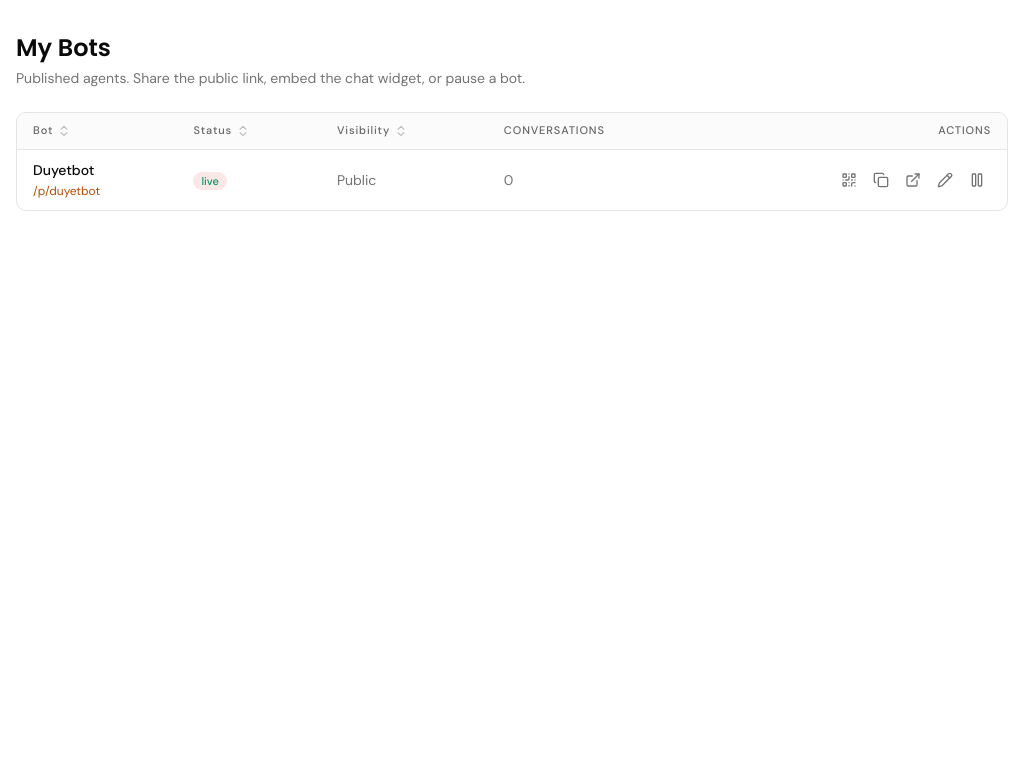
<MyBots /> › opens the edit-publication dialog from the pencil icon, prefilled from the row (issue #237)
Expected: the text "Duyetbot" is shown, [33,161,94,179]
Click the button named "Edit publication".
click(945, 180)  # box [931,166,959,194]
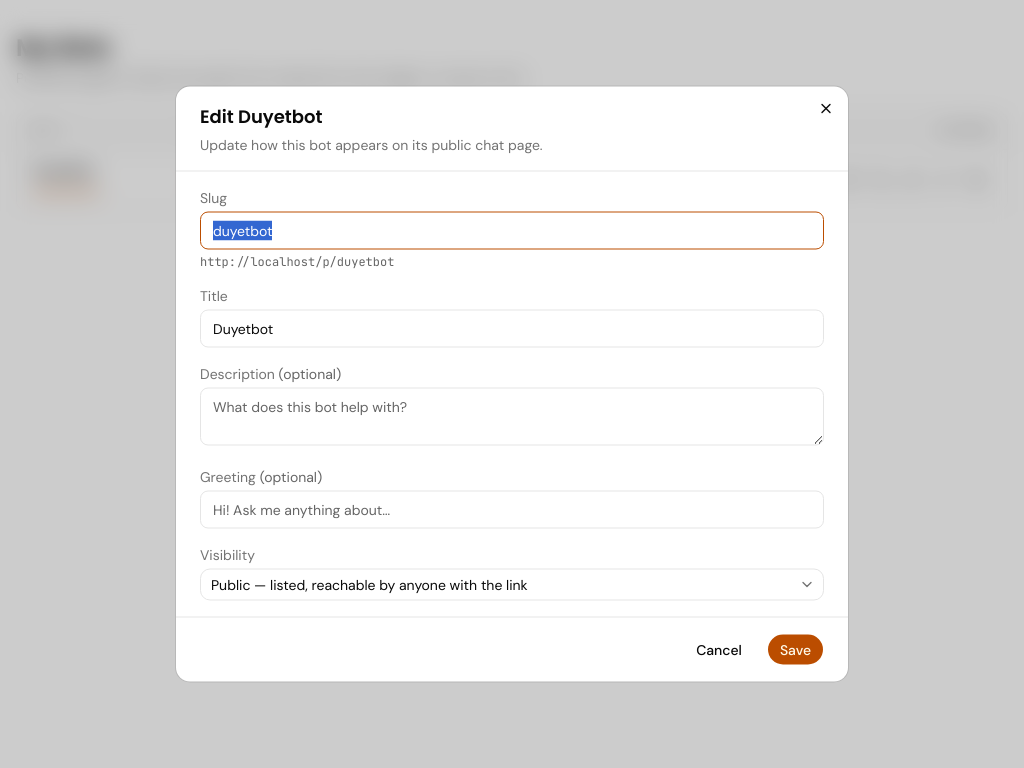
Expected: the heading "Edit Duyetbot" is shown, [200,104,322,128]
Expected: the field showing "duyetbot" is shown, [200,212,824,250]
Expected: the field showing "Duyetbot" is shown, [200,310,824,348]
